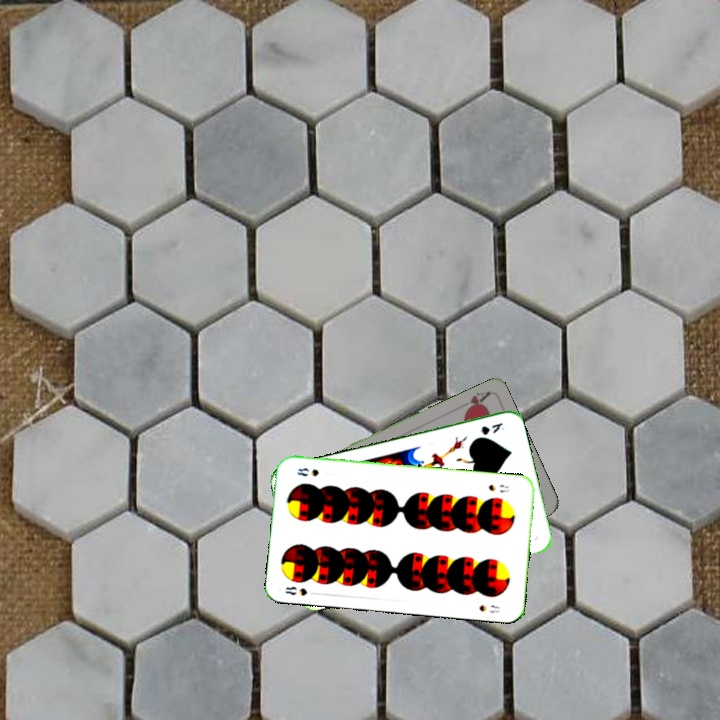GK: (475, 418, 507, 438)
HA: (454, 387, 492, 415)
S8: (281, 583, 320, 598), (485, 480, 512, 495)
